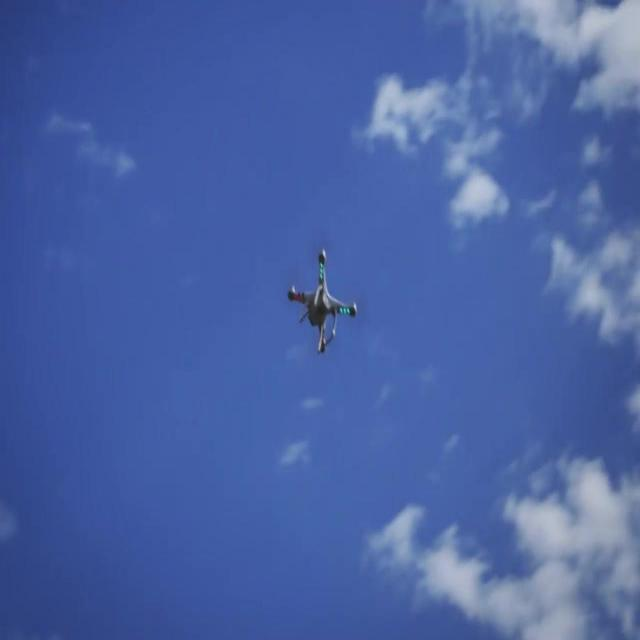UAV: (286, 245, 358, 358)
